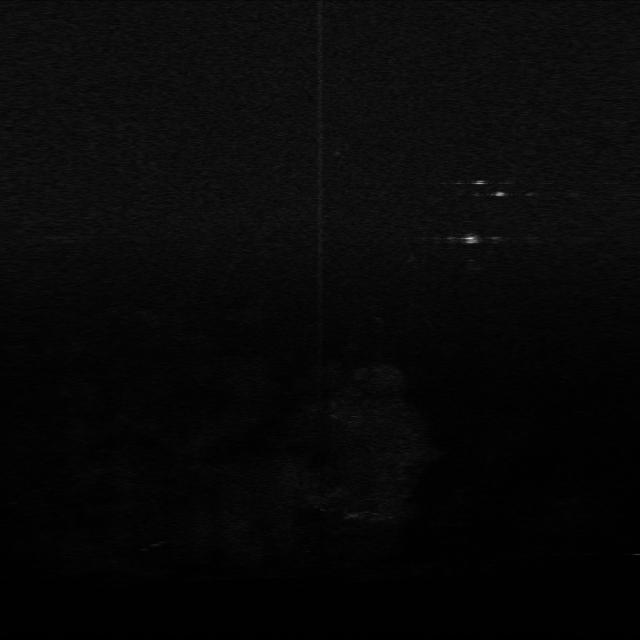rov: (456, 231, 480, 248)
